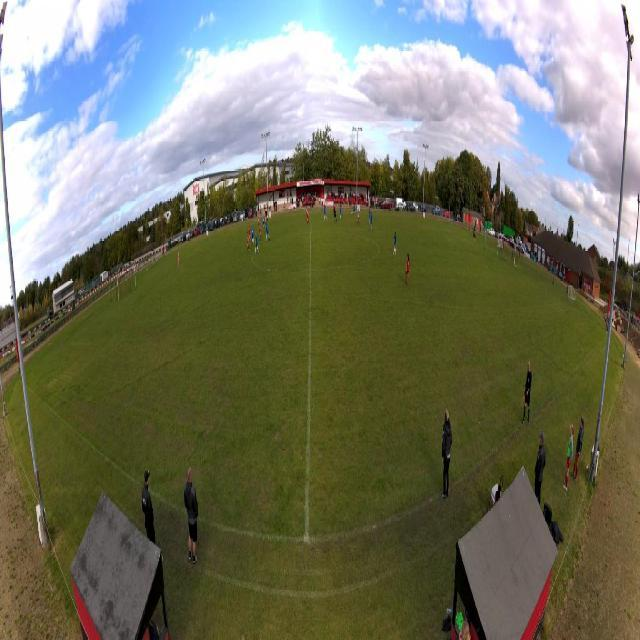ball: (351, 211, 352, 215)
player: (405, 252, 410, 286), (265, 222, 271, 242), (393, 231, 397, 258), (255, 231, 259, 257), (246, 230, 250, 254), (251, 225, 255, 246), (323, 203, 327, 221), (352, 203, 358, 215), (333, 206, 337, 223), (339, 204, 343, 221), (306, 206, 309, 226), (370, 211, 373, 231), (368, 206, 371, 225), (484, 235, 487, 254), (259, 221, 262, 240), (248, 223, 251, 242), (262, 215, 266, 229), (357, 208, 360, 226), (333, 201, 336, 215), (178, 250, 180, 268), (258, 216, 261, 227), (264, 215, 267, 225), (306, 206, 308, 217)
